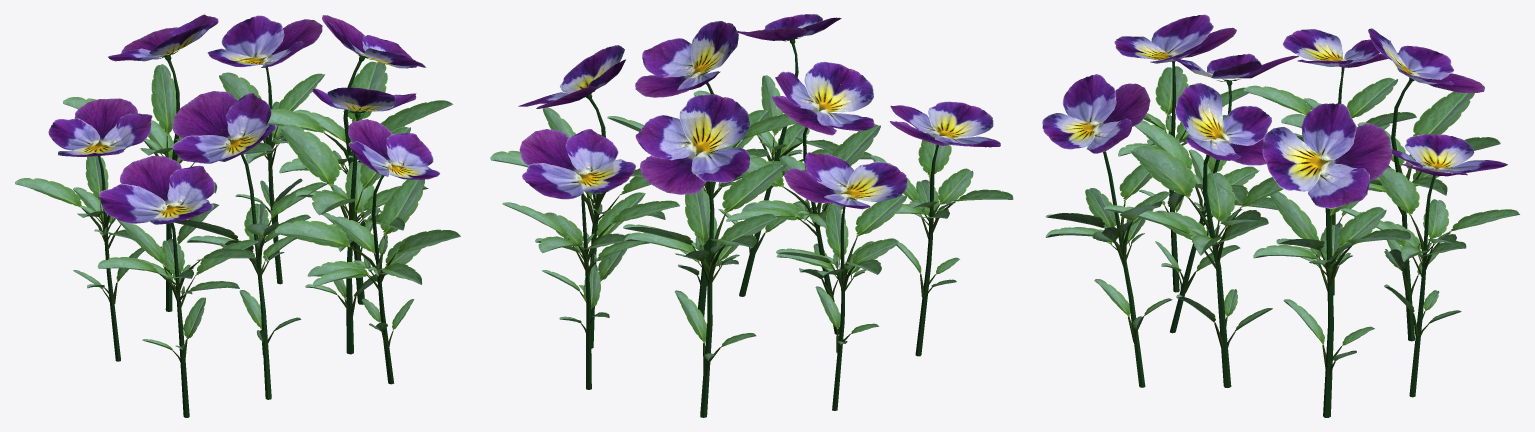
File: pansy.obj
The picture shows the model from 3 angles, left to right: view 1: azimuth 30°, elevation 25°; view 2: azimuth 150°, elevation 25°; view 3: azimuth 270°, elevation 25°; orthographic projection. The views are drawn at different scales.
Visible parts, largest first — view 1: Trunk.006, Trunk.001, PansyFlower.004, PansyFlower.001, Trunk.004, Trunk.003, Trunk.002, PansyFlower.003, PansyFlower.007, Trunk.007, PansyFlower.005, Trunk.005 (+4 smaller); view 2: PansyFlower, Trunk.005, PansyFlower.007, Trunk.007, Trunk.008, PansyFlower.001, Trunk.004, PansyFlower.002, PansyFlower.003, Trunk.003, PansyFlower.004, Trunk.006 (+4 smaller); view 3: PansyFlower.006, Trunk.001, Trunk.002, Trunk.008, PansyFlower.005, Trunk.006, PansyFlower.002, Trunk.005, Trunk.003, PansyFlower.004, Trunk.004, PansyFlower.007 (+4 smaller).
Boxes of the visible parts, x1,y1,x2,y2 form: Trunk.006: (275,175,460,384); Trunk.001: (280,110,428,354); PansyFlower.004: (99,155,215,224); PansyFlower.001: (172,91,276,163); Trunk.004: (97,219,258,417); Trunk.003: (174,153,328,399); Trunk.002: (267,52,452,304); PansyFlower.003: (48,98,152,156); PansyFlower.007: (207,15,322,67); Trunk.007: (15,139,144,361); PansyFlower.005: (348,119,440,179); Trunk.005: (63,50,273,311); PansyFlower: (635,94,750,194); Trunk.005: (623,151,786,417); PansyFlower.007: (519,129,635,199); Trunk.007: (776,194,907,410); Trunk.008: (502,192,679,389); PansyFlower.001: (772,61,874,135); Trunk.004: (870,133,1013,356); PansyFlower.002: (635,21,738,97); PansyFlower.003: (784,152,907,209); Trunk.003: (726,124,880,334); PansyFlower.004: (889,101,1000,147); Trunk.006: (693,36,871,296); PansyFlower.006: (1262,103,1391,208); Trunk.001: (1104,146,1283,387); Trunk.002: (1253,192,1410,417); Trunk.008: (1340,167,1519,397); PansyFlower.005: (1042,74,1150,153); Trunk.006: (1045,151,1172,387); PansyFlower.002: (1175,83,1271,165); Trunk.005: (1281,77,1500,341); Trunk.003: (1134,79,1277,333); PansyFlower.004: (1114,14,1236,63); Trunk.004: (1118,61,1248,292); PansyFlower.007: (1391,134,1507,176).
Bounding box in the file's own units: 30.82 × 21.51 × 30.27.
